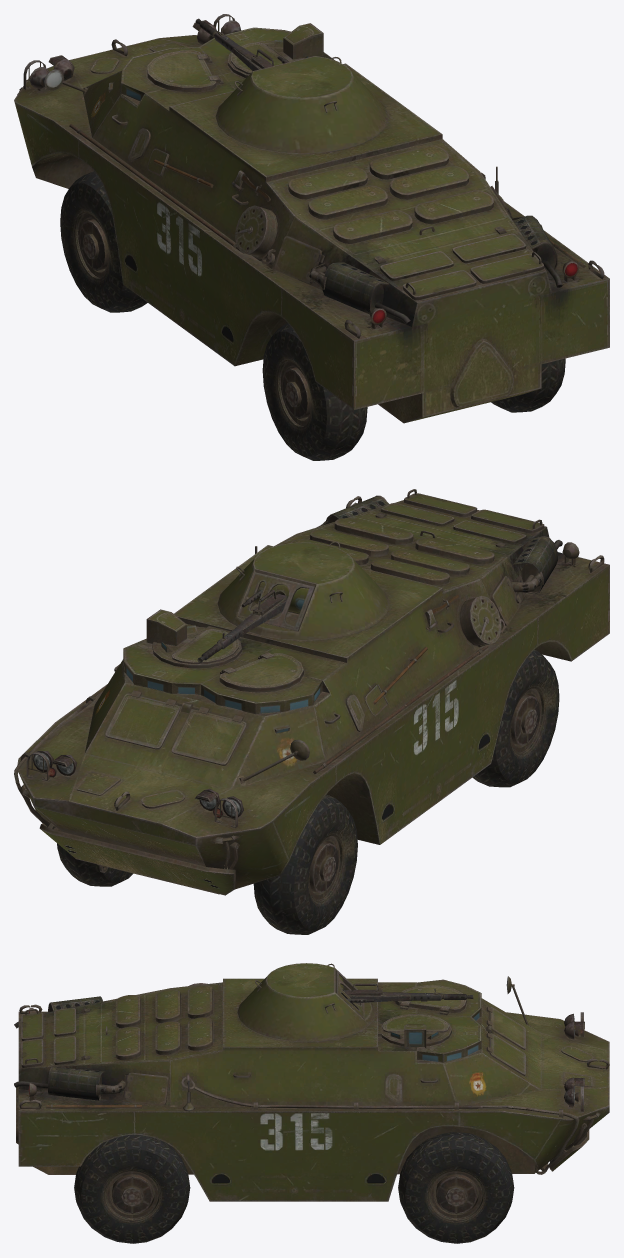
The model's file is brdm-2_-_ussr.glb.
The picture shows the model from 3 angles, top to bottom: view 1: azimuth 30°, elevation 25°; view 2: azimuth 150°, elevation 25°; view 3: azimuth 270°, elevation 25°; orthographic projection. The views are drawn at different scales.
Parts seen in each view (by area): view 1: Object_2; view 2: Object_2; view 3: Object_2.
Part boxes in pixels (box(x1,y1,x2,y2)): Object_2: box(14, 14, 609, 460); Object_2: box(14, 489, 609, 934); Object_2: box(14, 963, 609, 1243).
Bounding box in the file's own units: 9 × 9.12 × 22.33.
Materials: 1 (1 with a texture image).
